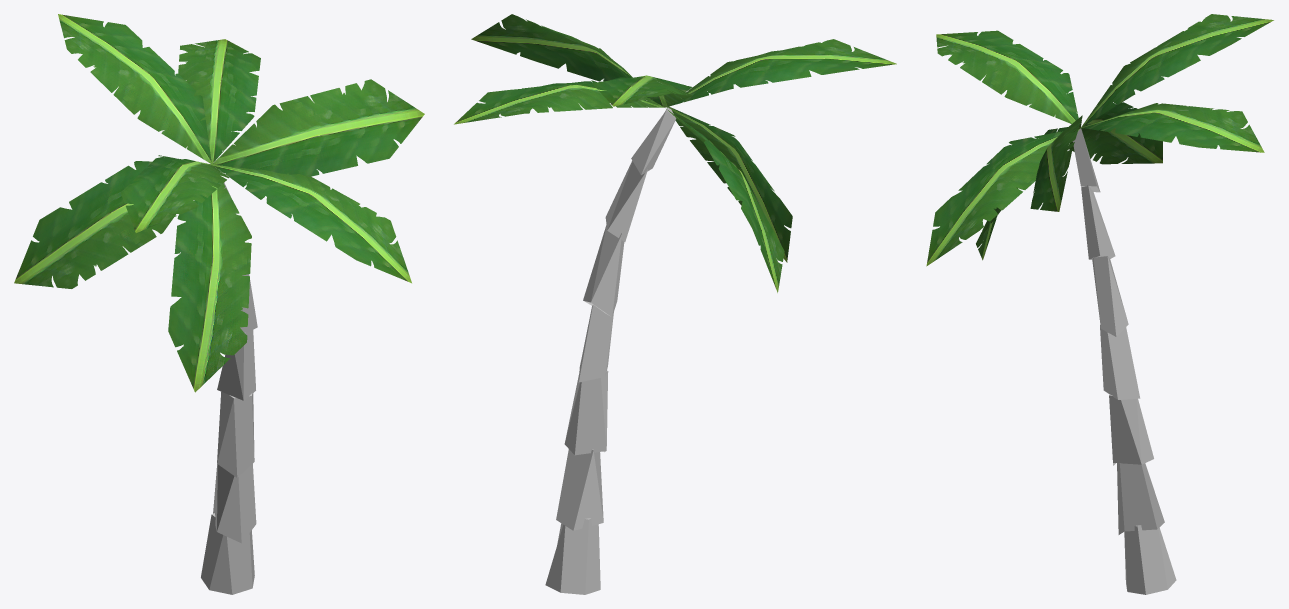
File: coco_trees.fbx
The picture shows the model from 3 angles, left to right: view 1: azimuth 30°, elevation 25°; view 2: azimuth 150°, elevation 25°; view 3: azimuth 270°, elevation 25°; orthographic projection. The views are drawn at different scales.
Visible parts, largest first — view 1: polySurface2984; view 2: polySurface2984; view 3: polySurface2984.
Boxes of the visible parts, left/top/right/bottom form: polySurface2984: left=14, top=14, right=424, bottom=594; polySurface2984: left=454, top=14, right=896, bottom=594; polySurface2984: left=926, top=14, right=1273, bottom=594.
Bounding box in the file's own units: 203 × 299 × 182.
